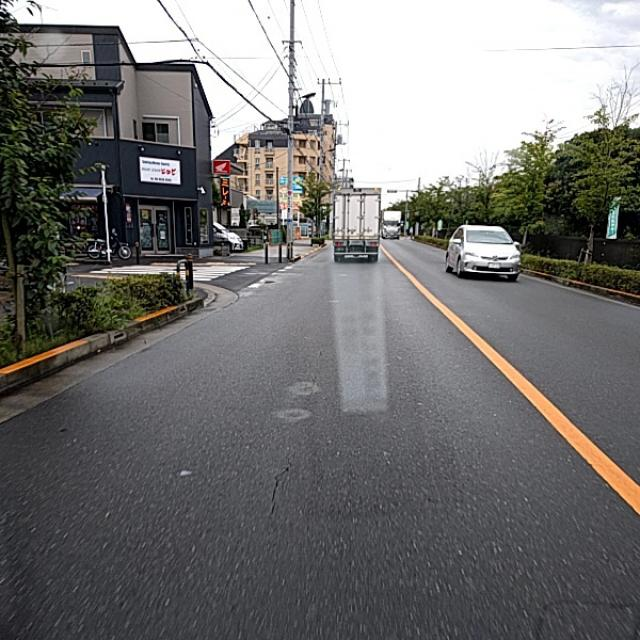pothole: (246, 437, 292, 497)
